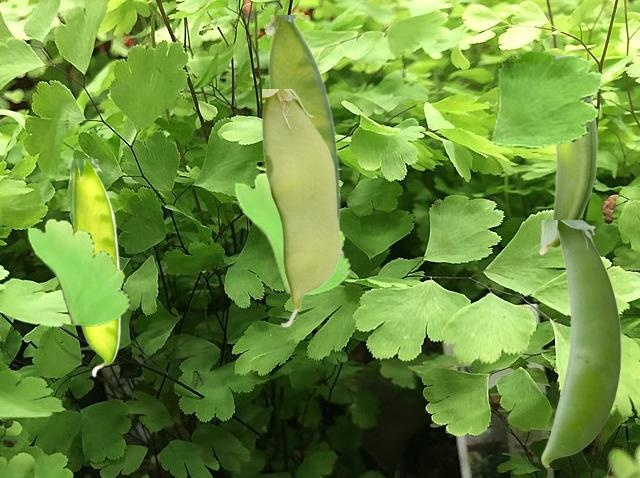pea: (541, 220, 620, 466), (262, 89, 340, 326), (267, 15, 343, 252), (539, 56, 598, 254), (70, 159, 119, 376)
